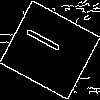I: (24, 25, 70, 59)
